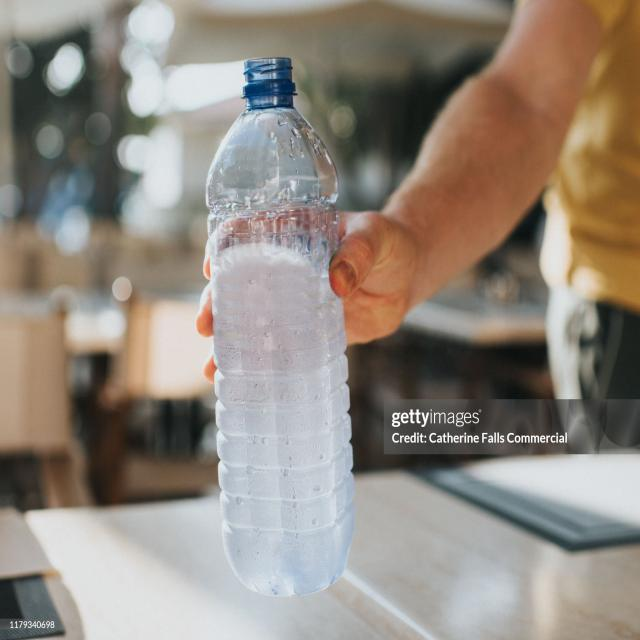bottle: (205, 51, 359, 595)
